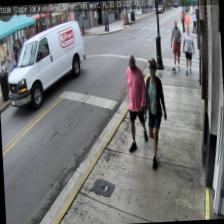person: (140, 57, 169, 168), (123, 54, 148, 152)
